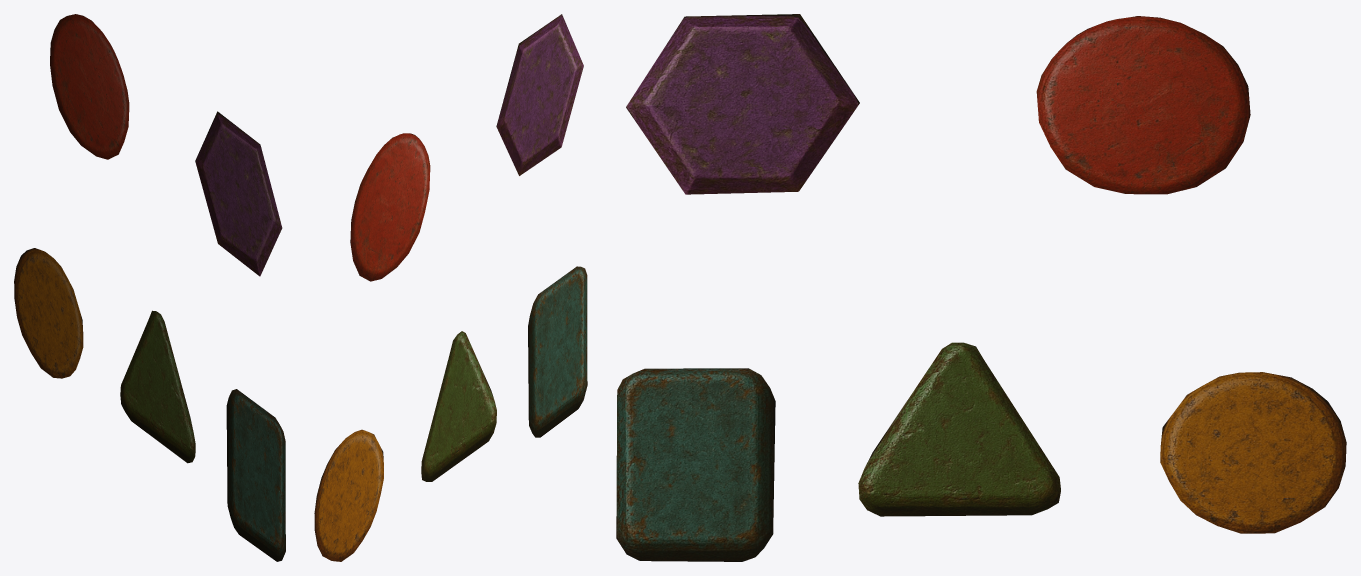
File: 5knöpfe.2d.glb
3 views of the same model, side by side, from view 1: azimuth 30°, elevation 25°; view 2: azimuth 150°, elevation 25°; view 3: azimuth 270°, elevation 25° (orthographic). The views are drawn at different scales.
Parts seen in each view (by area): view 1: schublade.knöpfe.chatgpt; view 2: schublade.knöpfe.chatgpt; view 3: schublade.knöpfe.chatgpt.
Part boxes in pixels (x1=…): schublade.knöpfe.chatgpt: x1=14, y1=14, x2=285, y2=561; schublade.knöpfe.chatgpt: x1=314, y1=14, x2=587, y2=561; schublade.knöpfe.chatgpt: x1=616, y1=14, x2=1346, y2=561.
Size of the model in its own units: 0 by 2.21 by 2.66.
1 material, 1 textured.
